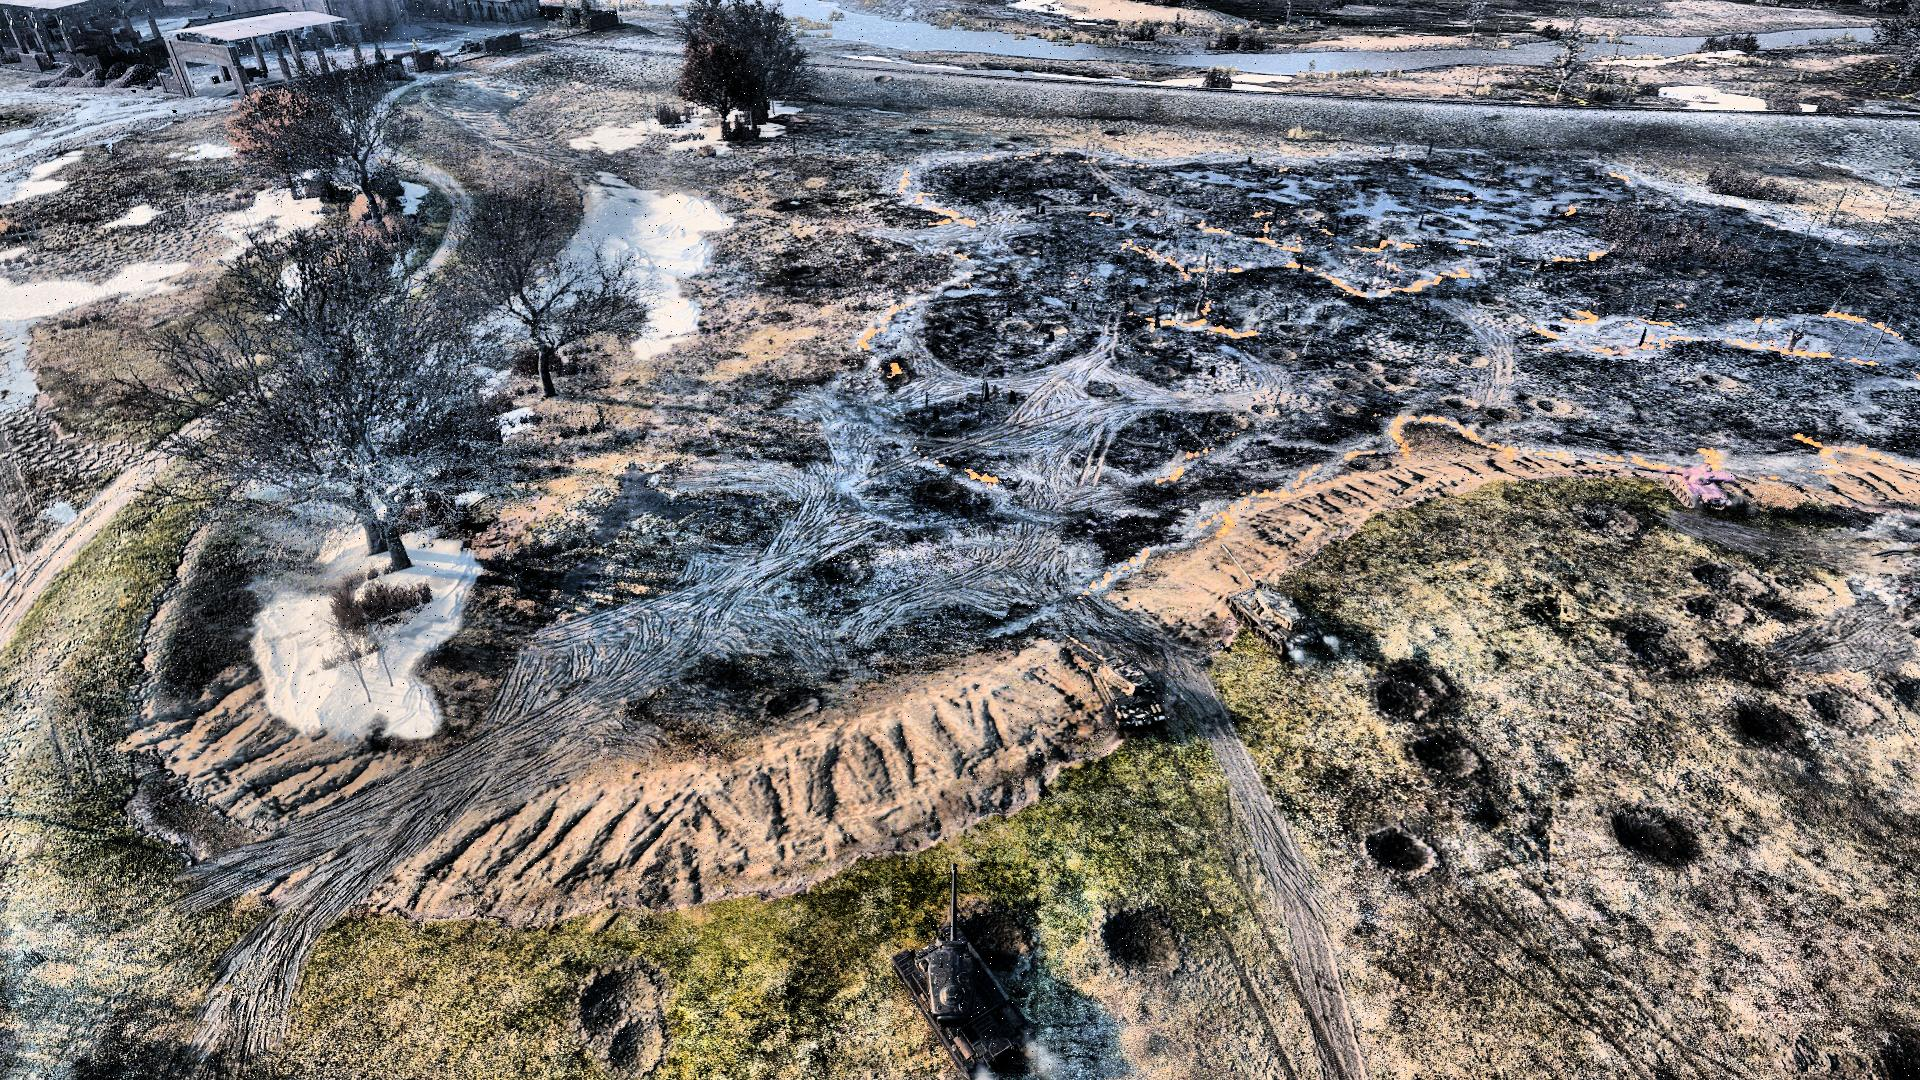military-vehicle: (891, 862, 1038, 1073), (1220, 542, 1340, 659), (1060, 630, 1164, 732)
